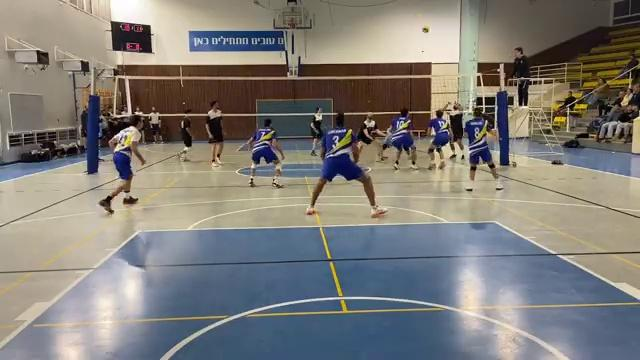ball: (423, 24, 431, 36)
